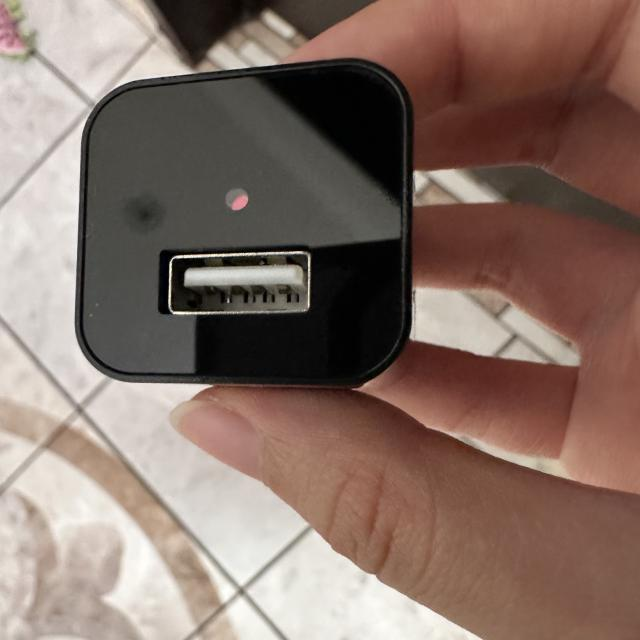hidden camera: (223, 186, 252, 212)
